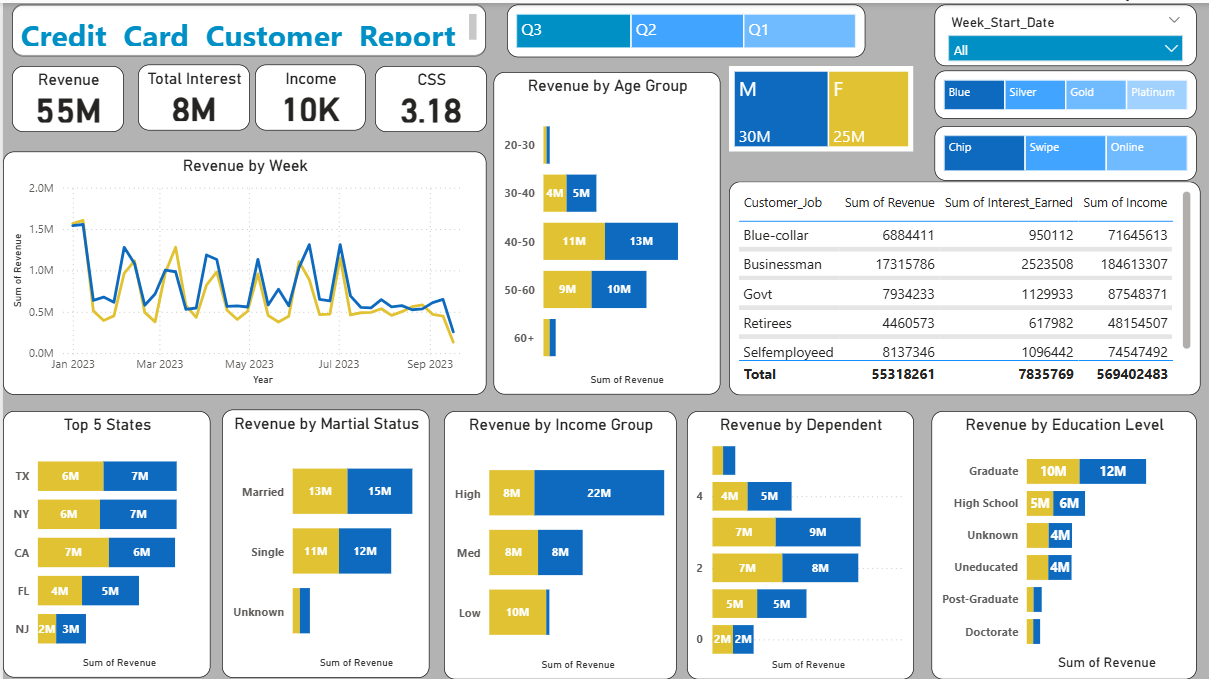

The dashboard page shown, as its layout file describes it:
{"tool":"powerbi","page":{"name":"CC Customer","canvas":[1280,720],"ordinal":2},"visuals":[{"type":"textbox","box":[9.1,1.5,502.7,54.5],"z":0},{"type":"barChart","title":"Revenue by Income Group","fields":{"Y":["Sum(cc_detail.Revenue)"],"Category":["cust_detail.IncomeGroup"],"Series":["cust_detail.Gender"]},"box":[467.2,432.8,246.9,284.4],"z":1000},{"type":"tableEx","fields":{"Values":["cust_detail.Customer_Job","Sum(cc_detail.Revenue)","Sum(cc_detail.Interest_Earned)","cust_detail.Income"]},"box":[770.3,189.1,500,226.6],"z":2000},{"type":"card","title":"Revenue","fields":{"Values":["Sum(cc_detail.Revenue)"]},"box":[8.8,66.2,118.8,70],"z":3000},{"type":"card","title":"Income","fields":{"Values":["CountNonNull(cust_detail.Income)"]},"box":[267.5,65,117.5,70],"z":4000},{"type":"card","title":"Total Interest","fields":{"Values":["Sum(cc_detail.Interest_Earned)"]},"box":[142.5,65,118.8,70],"z":5000},{"type":"card","title":"CSS","fields":{"Values":["Avg(cust_detail.Cust_Satisfaction_Score)"]},"box":[393.8,66.2,118.8,70],"z":6000},{"type":"slicer","fields":{"Values":["cc_detail.Week_Start_Date"]},"box":[987.5,1.6,278.1,65.6],"z":7000},{"type":"treemap","fields":{"Group":["cc_detail.Qtr"],"Values":["Avg(cc_detail.Client_Num)"]},"box":[534.4,1.6,379.7,56.2],"z":8000},{"type":"treemap","fields":{"Group":["cc_detail.Card_Category"],"Values":["Avg(cc_detail.Client_Num)"]},"box":[987.5,71.9,278.1,51.6],"z":9000},{"type":"lineChart","title":"Revenue by Week","fields":{"Y":["Sum(cc_detail.Revenue)"],"Series":["cust_detail.Gender"],"Category":["cc_detail.Week_Start_Date.Variation.Date Hierarchy.Year","cc_detail.Week_Start_Date.Variation.Date Hierarchy.Month","cc_detail.Week_Start_Date.Variation.Date Hierarchy.Day"]},"box":[0,157.8,512.5,257.8],"z":10000},{"type":"treemap","fields":{"Group":["cust_detail.Gender"],"Values":["Sum(cc_detail.Revenue)"]},"box":[770.3,67.2,195.3,90.6],"z":11000},{"type":"barChart","title":"Revenue by Age Group","fields":{"Y":["Sum(cc_detail.Revenue)"],"Category":["cust_detail.AgeGroup"],"Series":["cust_detail.Gender"]},"box":[520.3,73.4,240.6,342.2],"z":12000},{"type":"barChart","title":"Revenue by Dependent","fields":{"Y":["Sum(cc_detail.Revenue)"],"Category":["cust_detail.Dependent_Count"],"Series":["cust_detail.Gender"]},"box":[725,432.8,240.6,284.4],"z":13000},{"type":"barChart","title":"Revenue by Education Level","fields":{"Y":["Sum(cc_detail.Revenue)"],"Category":["cust_detail.Education_Level"],"Series":["cust_detail.Gender"]},"box":[984.4,432.8,281.2,284.4],"z":14000},{"type":"barChart","title":"Top 5 States","fields":{"Y":["Sum(cc_detail.Revenue)"],"Category":["cust_detail.State_cd"],"Series":["cust_detail.Gender"]},"box":[0,432.8,220.3,282.8],"z":15000},{"type":"barChart","title":"Revenue by Martial Status","fields":{"Y":["Sum(cc_detail.Revenue)"],"Category":["cust_detail.Marital_Status"],"Series":["cust_detail.Gender"]},"box":[232.8,431.2,220.3,284.4],"z":16000},{"type":"treemap","fields":{"Group":["cc_detail.Use_Chip"],"Values":["Avg(cc_detail.Client_Num)"]},"box":[987.5,129.7,278.1,57.8],"z":17000}]}

Visuals, with their boxes in screenshot pixels (x1, y1, x2, y2), scaled from the page's 1280x720 canvas onto the 1209x679 screenshot:
textbox: locate(9, 1, 483, 53)
"Revenue by Income Group" barChart: locate(441, 408, 674, 676)
tableEx - cust_detail.Customer_Job x Sum(cc_detail.Revenue): locate(728, 178, 1200, 392)
"Revenue" card: locate(8, 62, 121, 128)
"Income" card: locate(253, 61, 364, 127)
"Total Interest" card: locate(135, 61, 247, 127)
"CSS" card: locate(372, 62, 484, 128)
slicer - cc_detail.Week_Start_Date: locate(933, 2, 1195, 63)
treemap - cc_detail.Qtr x Avg(cc_detail.Client_Num): locate(505, 2, 863, 55)
treemap - cc_detail.Card_Category x Avg(cc_detail.Client_Num): locate(933, 68, 1195, 116)
"Revenue by Week" lineChart: locate(0, 149, 484, 392)
treemap - cust_detail.Gender x Sum(cc_detail.Revenue): locate(728, 63, 912, 149)
"Revenue by Age Group" barChart: locate(491, 69, 719, 392)
"Revenue by Dependent" barChart: locate(685, 408, 912, 676)
"Revenue by Education Level" barChart: locate(930, 408, 1195, 676)
"Top 5 States" barChart: locate(0, 408, 208, 675)
"Revenue by Martial Status" barChart: locate(220, 407, 428, 675)
treemap - cc_detail.Use_Chip x Avg(cc_detail.Client_Num): locate(933, 122, 1195, 177)
